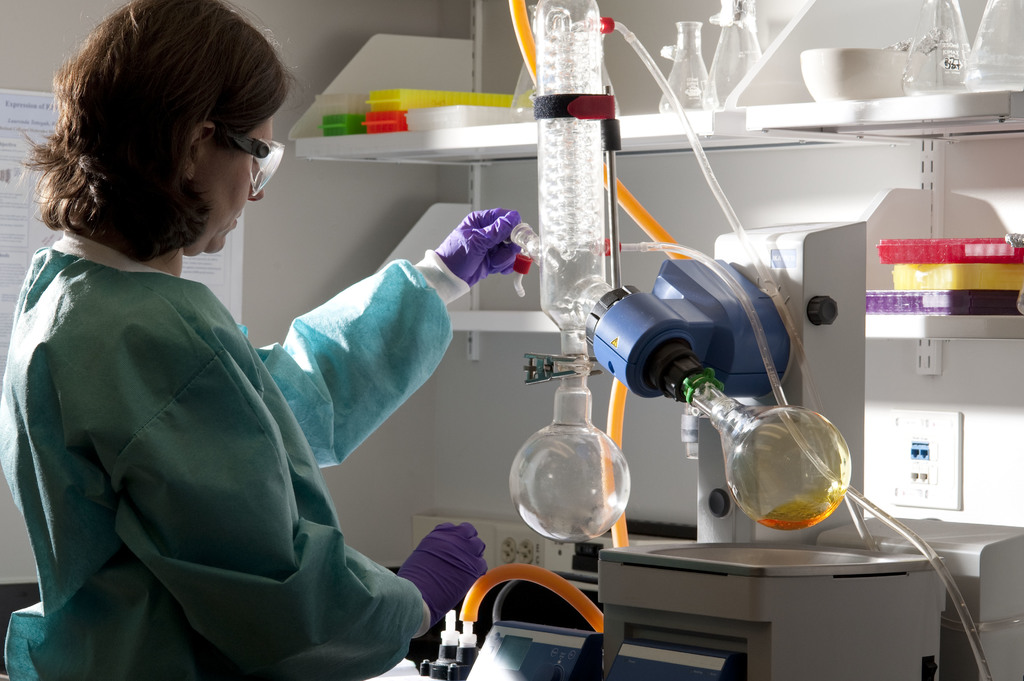Person: (0, 0, 521, 681)
